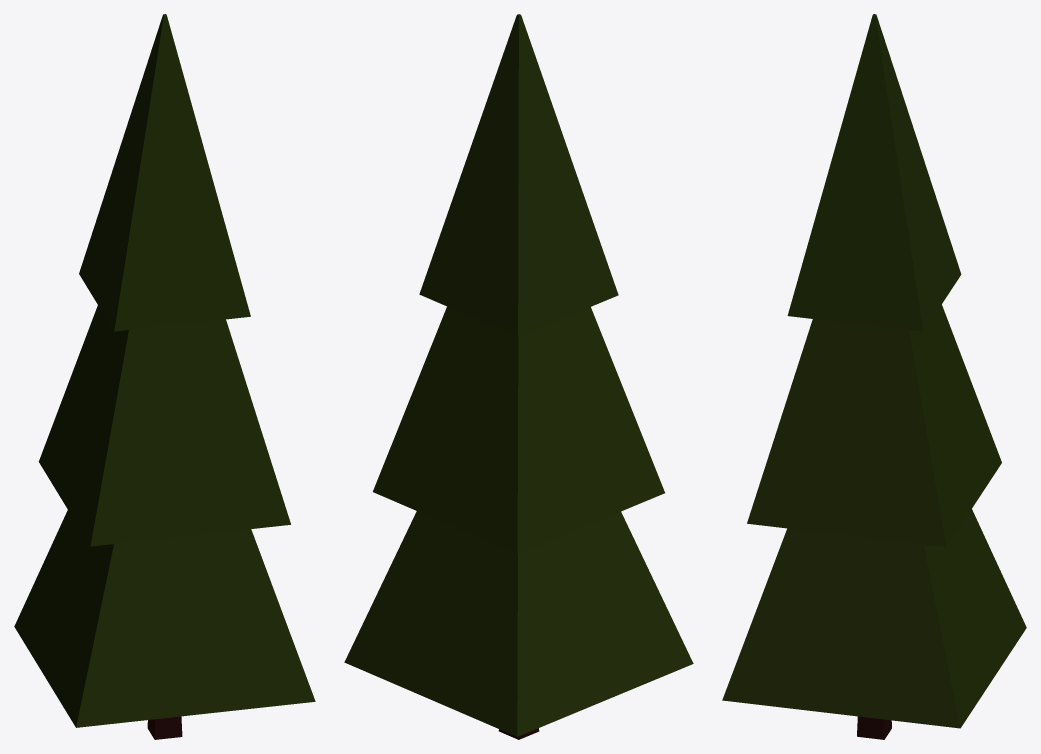
The model's file is tree8.obj.
3 views of the same model, side by side, from view 1: azimuth 30°, elevation 25°; view 2: azimuth 150°, elevation 25°; view 3: azimuth 270°, elevation 25° (orthographic).
Parts seen in each view (by area): view 1: Cube.008_Cube.015, Cube.008_Cube.000_Cube.008_Cube.001; view 2: Cube.008_Cube.015; view 3: Cube.008_Cube.015, Cube.008_Cube.000_Cube.008_Cube.001.
Part boxes in pixels (x1,y1,x2,y2): Cube.008_Cube.015: (14,14,315,727); Cube.008_Cube.000_Cube.008_Cube.001: (147,716,182,739); Cube.008_Cube.015: (344,14,693,736); Cube.008_Cube.015: (722,14,1026,728); Cube.008_Cube.000_Cube.008_Cube.001: (857,716,891,739).
Size of the model in its own units: 3.08 by 8 by 3.08.
